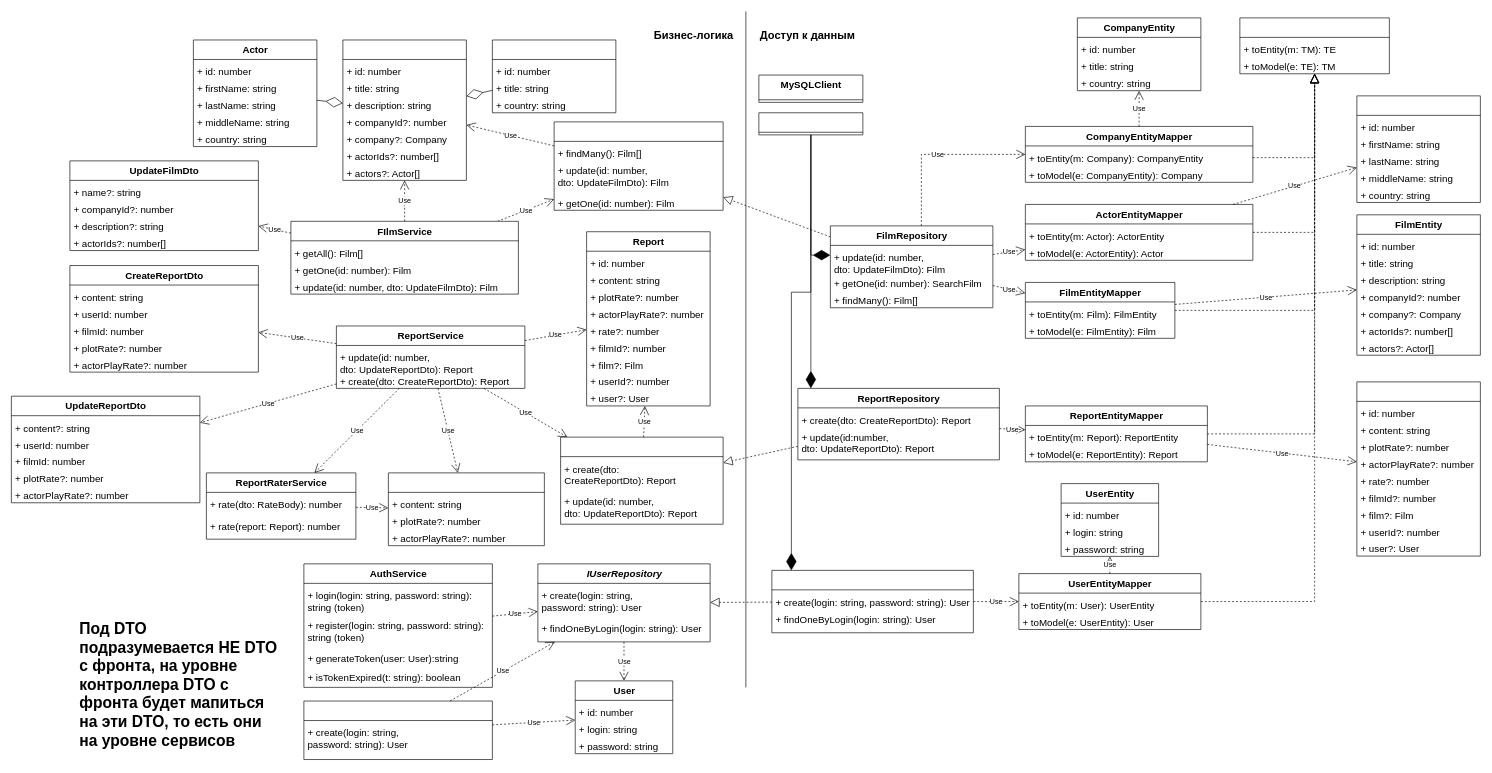
The diagram is 1492 pixels wide and 773 high, and some of its shapes have lost their labels. Here are the shapes that lost their labels. From the top down, the box of each, then its label:
(1239, 17, 1389, 74): IEntityMapper<TM, TE>
(492, 39, 616, 113): Company
(342, 39, 466, 180): Film
(758, 112, 863, 135): TypeORMClient
(553, 121, 723, 210): IFilmRepository
(1356, 95, 1480, 202): ActorEntity
(560, 436, 723, 524): IReportRepository
(1356, 381, 1480, 556): ReportEntity
(388, 472, 544, 546): RateBody
(771, 570, 973, 633): UserRepository
(303, 700, 492, 760): UserService
